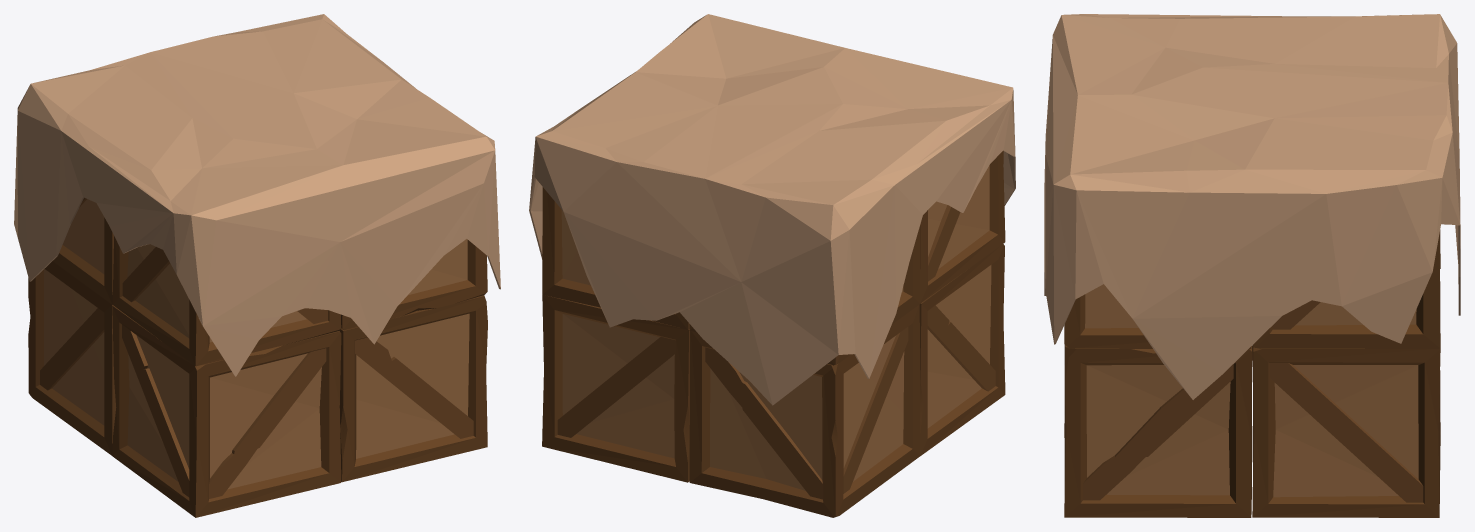
3 views of the same model, side by side, from view 1: azimuth 30°, elevation 25°; view 2: azimuth 150°, elevation 25°; view 3: azimuth 270°, elevation 25° (orthographic). The views are drawn at different scales.
Parts seen in each view (by area): view 1: Box_02; view 2: Box_02; view 3: Box_02.
Part boxes in pixels (x1=…): Box_02: x1=14, y1=14, x2=500, y2=517; Box_02: x1=529, y1=14, x2=1015, y2=517; Box_02: x1=1044, y1=14, x2=1460, y2=517.
Bounding box in the file's own units: 209 × 193 × 209.
